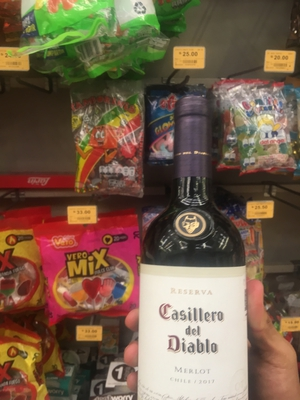casillero del diablo merlot: (138, 100, 261, 400)
